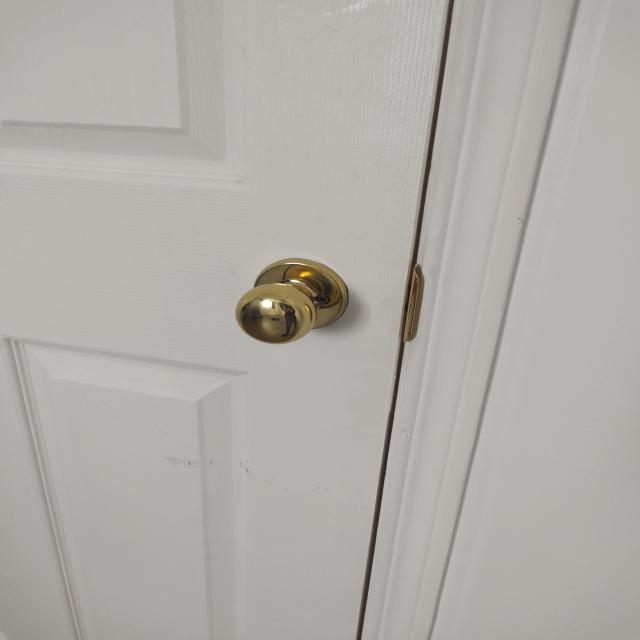door-knob: (236, 259, 347, 344)
